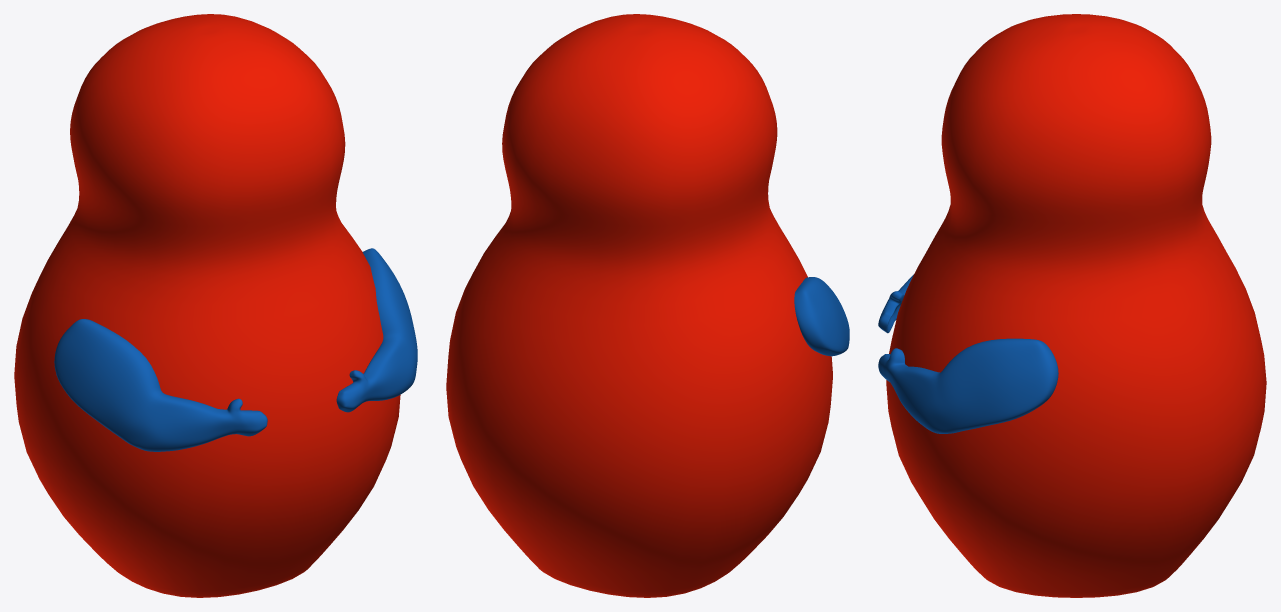
The model's file is red-1.glb.
3 renders of one model, left to right at view 1: azimuth 30°, elevation 25°; view 2: azimuth 150°, elevation 25°; view 3: azimuth 270°, elevation 25°, orthographic.
Parts seen in each view (by area): view 1: Cube, Cube.001; view 2: Cube, Cube.001; view 3: Cube, Cube.001.
Boxes of the visible parts, <box> form: Cube: <box>14,14,400,597</box>; Cube.001: <box>54,248,417,451</box>; Cube: <box>446,14,832,597</box>; Cube.001: <box>794,277,849,356</box>; Cube: <box>886,14,1266,597</box>; Cube.001: <box>878,274,1058,433</box>.
Bounding box in the file's own units: 2.96 × 4.36 × 2.9.
